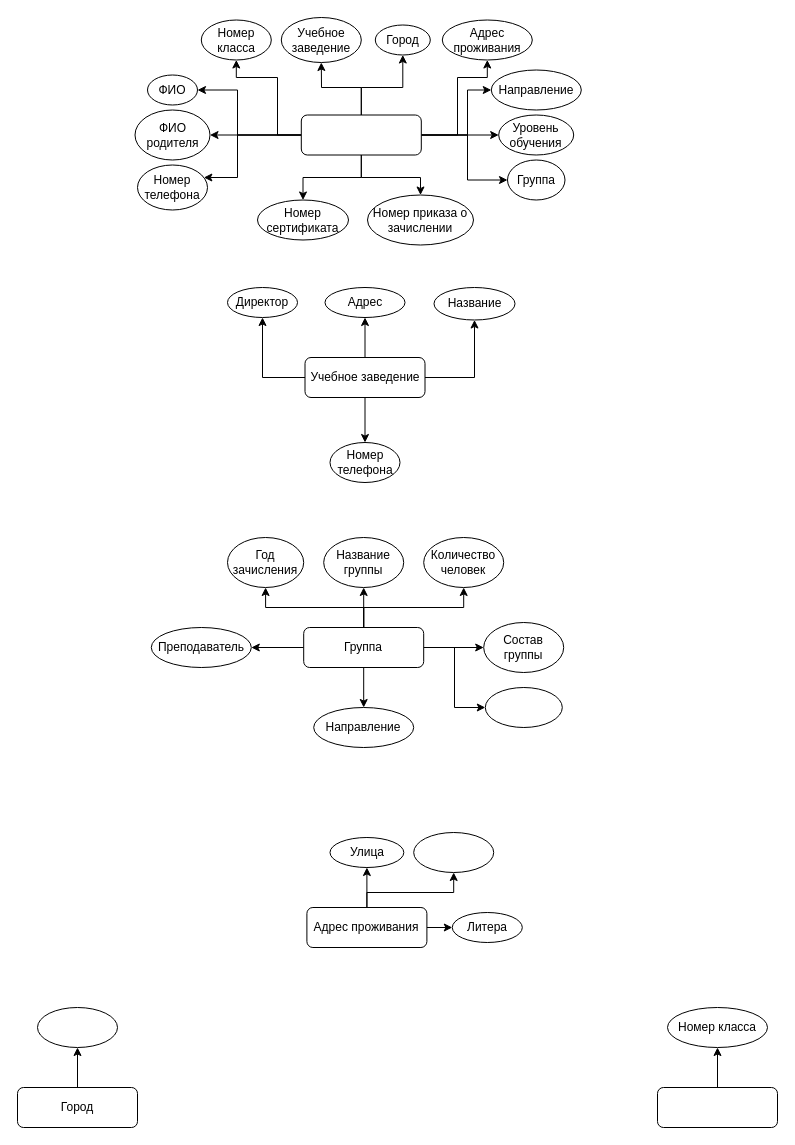
The diagram is 795 pixels wide and 1145 high, and some of its shapes have lost their labels. Here are the shapes that lost their labels. From the top down, the centre of each, then its label:
At point 360,134: "Учащийся".
At point 523,707: "Количество часов".
At point 453,852: "Номер строения".
At point 77,1027: "Название города".
At point 717,1107: "Класс".
